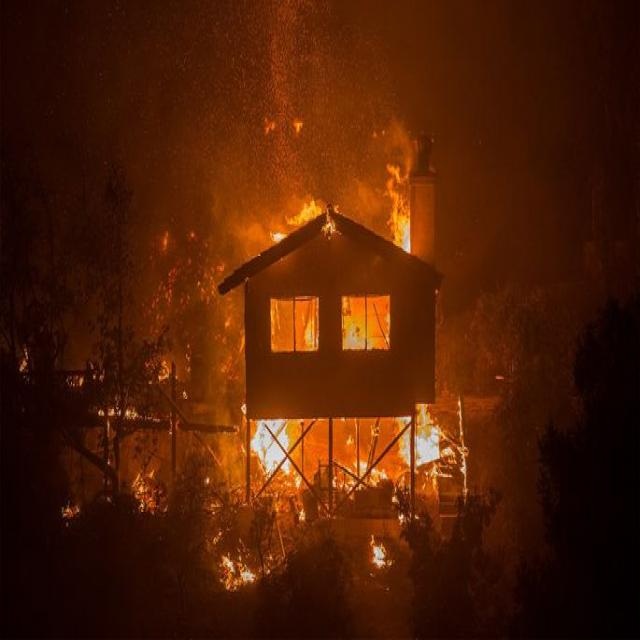Fire: (413, 404, 462, 470), (249, 419, 292, 484), (393, 186, 410, 254), (343, 299, 364, 349)
